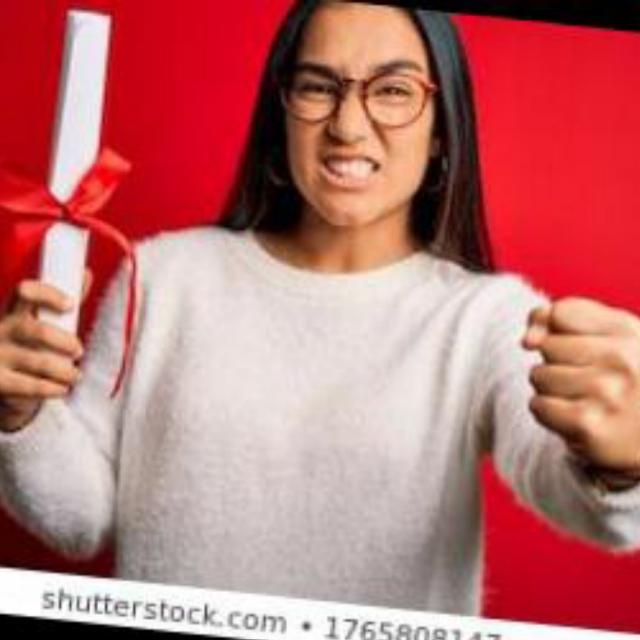angry: (245, 2, 528, 247)
